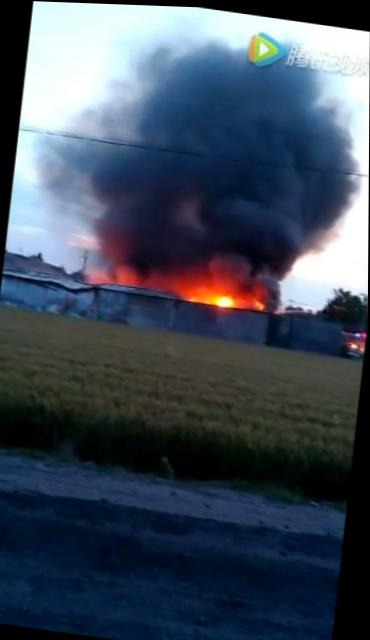fire: (176, 274, 236, 305)
